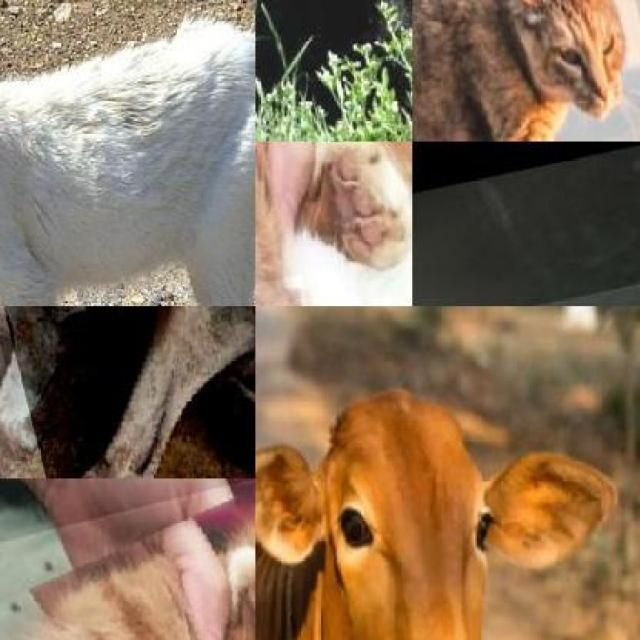buffalo: (255, 0, 412, 142)
cat: (0, 15, 255, 306), (0, 478, 255, 639), (412, 0, 640, 142), (255, 142, 412, 306), (434, 222, 640, 306)
cow: (255, 398, 608, 640), (0, 306, 255, 478)
injured: (0, 306, 255, 478)
